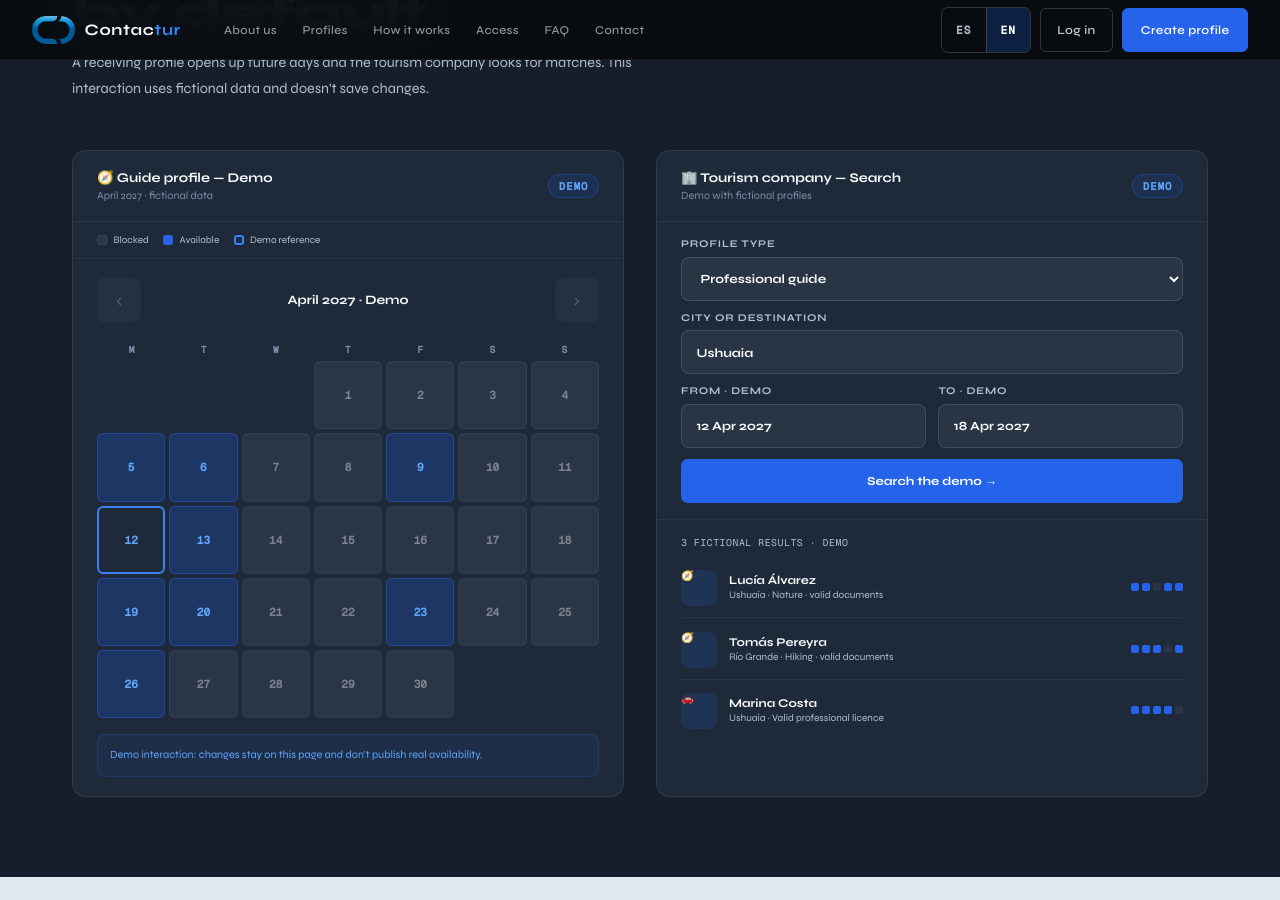
Test: i18n — landing en inglés › secciones, perfiles, demos y FAQ operable
(page scrolled)
Expected: the button named "12 April 2027, reference day. Demo" is disabled, [97,506,165,574]
Expected: the field labelled "From · demo" holds "12 Apr 2027", [681,404,926,448]
Click the button "Search the demo →" at [932, 481], box [681,459,1183,503]
(page scrolled)
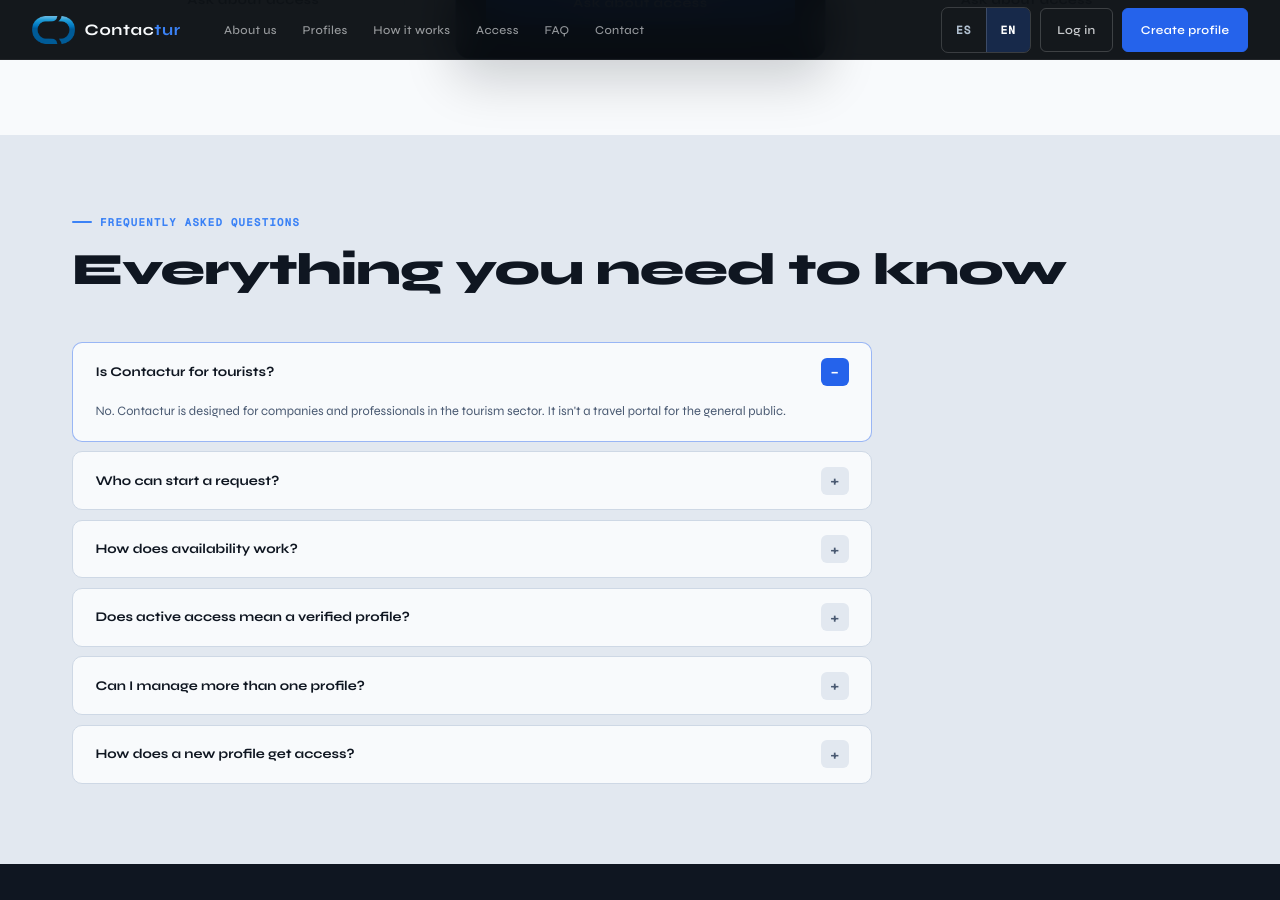
Click the button "Who can start a request? +" at [187, 481], box [73,452,871,509]
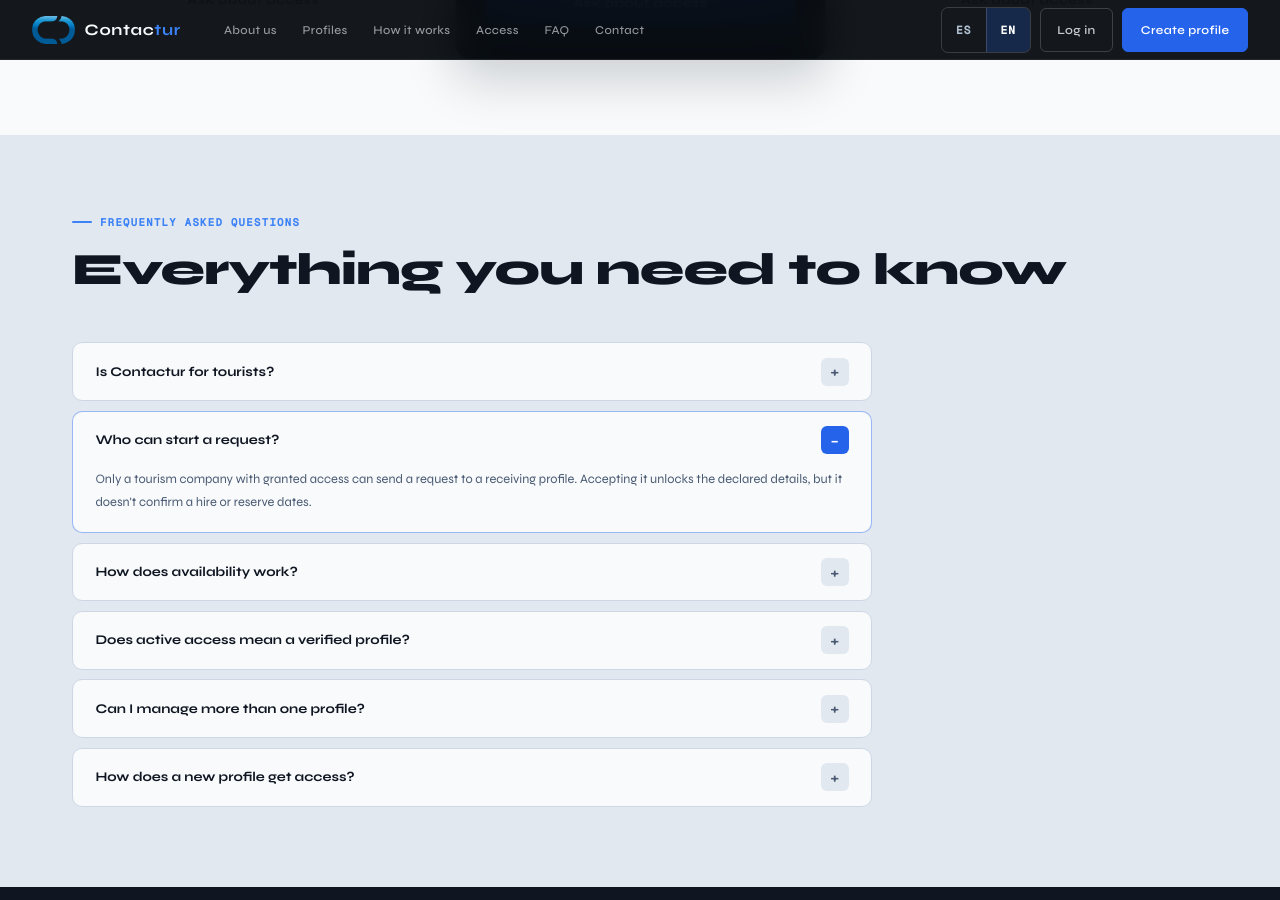
Now the button "Who can start a request? −" is expanded, box [73,412,871,468]
Now the text "Only a tourism company with granted access can send a request" is shown, box [95,471,842,510]
